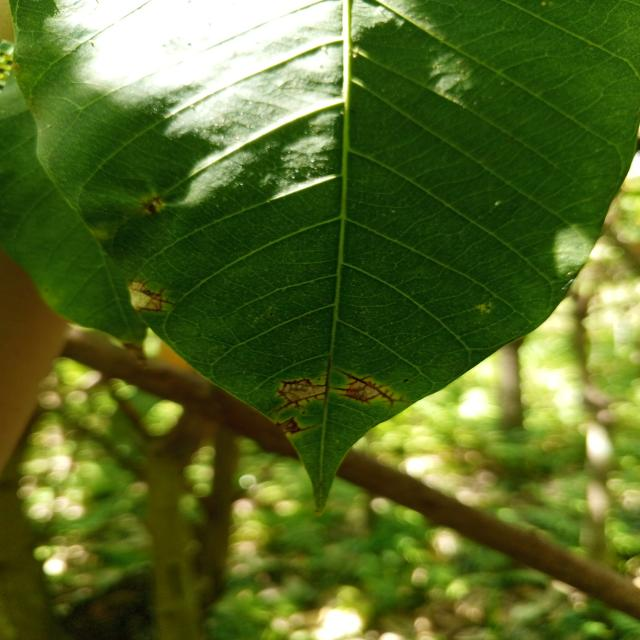Corynespora: (332, 365, 406, 409), (272, 375, 328, 413), (128, 277, 176, 313), (274, 415, 318, 435)
Leaf-Blight: (129, 281, 151, 310)
